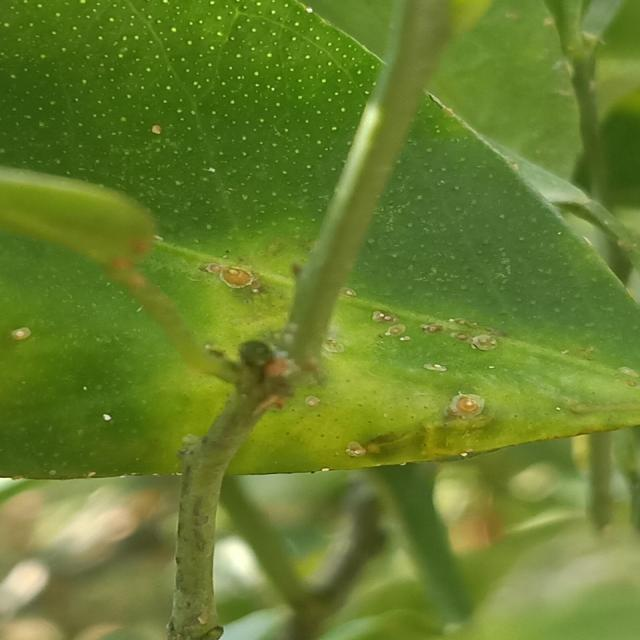canker: (84, 238, 568, 445)
